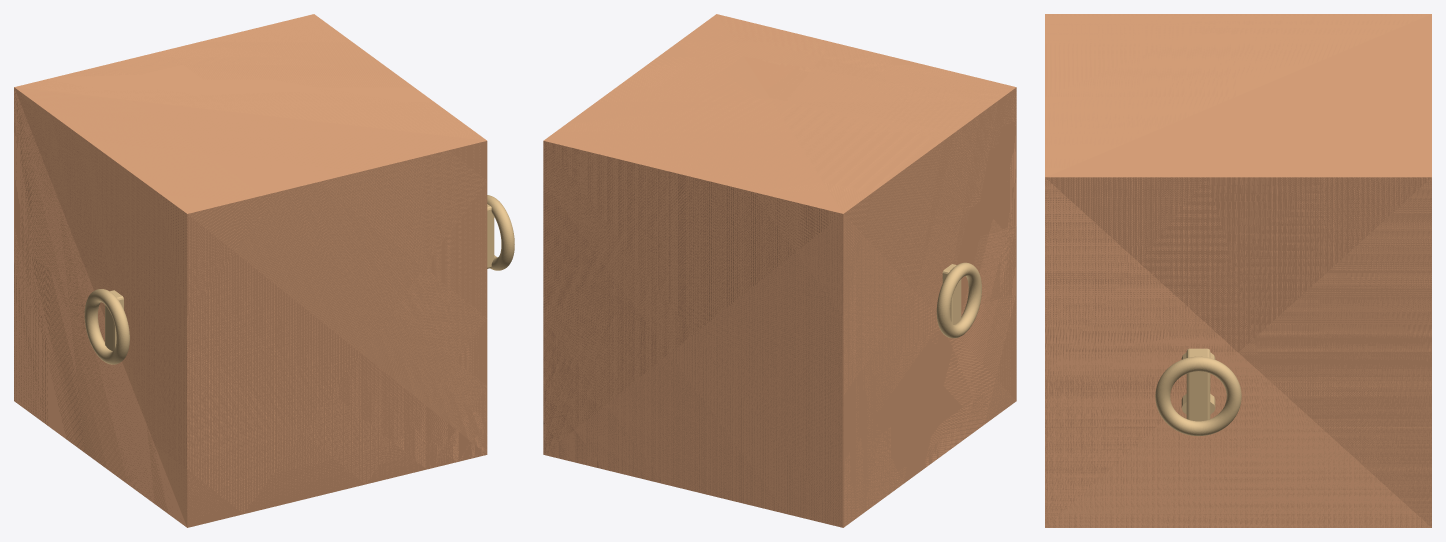
3 renders of one model, left to right at view 1: azimuth 30°, elevation 25°; view 2: azimuth 150°, elevation 25°; view 3: azimuth 270°, elevation 25°, orthographic. The views are drawn at different scales.
Visible parts, largest first — view 1: object 1, object 10, Pot_Handle_2, Pot_Handle_1; view 2: object 1, object 10, Pot_Handle_2; view 3: object 1, object 10, Pot_Handle_1, Pot_Handle_Connector_1.
Boxes of the visible parts, x1,y1,x2,y2 form: object 1: (14,87,487,527); object 10: (14,14,486,213); Pot_Handle_2: (84,289,129,364); Pot_Handle_1: (487,195,514,270); object 1: (543,87,1016,527); object 10: (543,14,1016,213); Pot_Handle_2: (936,262,981,338); object 1: (1045,177,1431,527); object 10: (1045,14,1431,177); Pot_Handle_1: (1155,356,1241,436); Pot_Handle_Connector_1: (1186,348,1210,421).
Size of the model in its own units: 0.7829 by 0.5924 by 0.5924.
